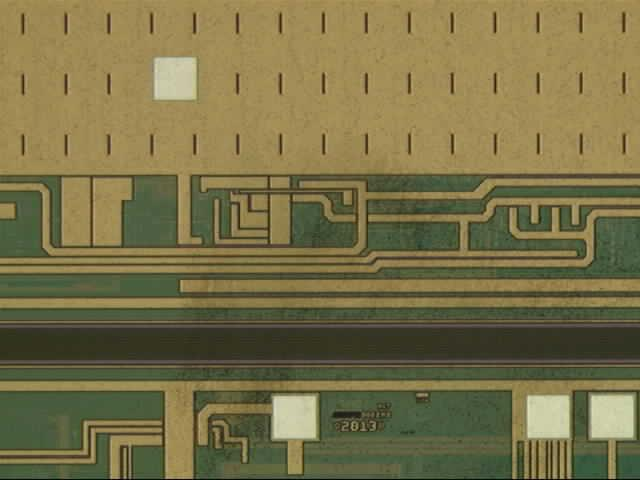PO CONTAMINATION: (172, 137, 632, 478)
